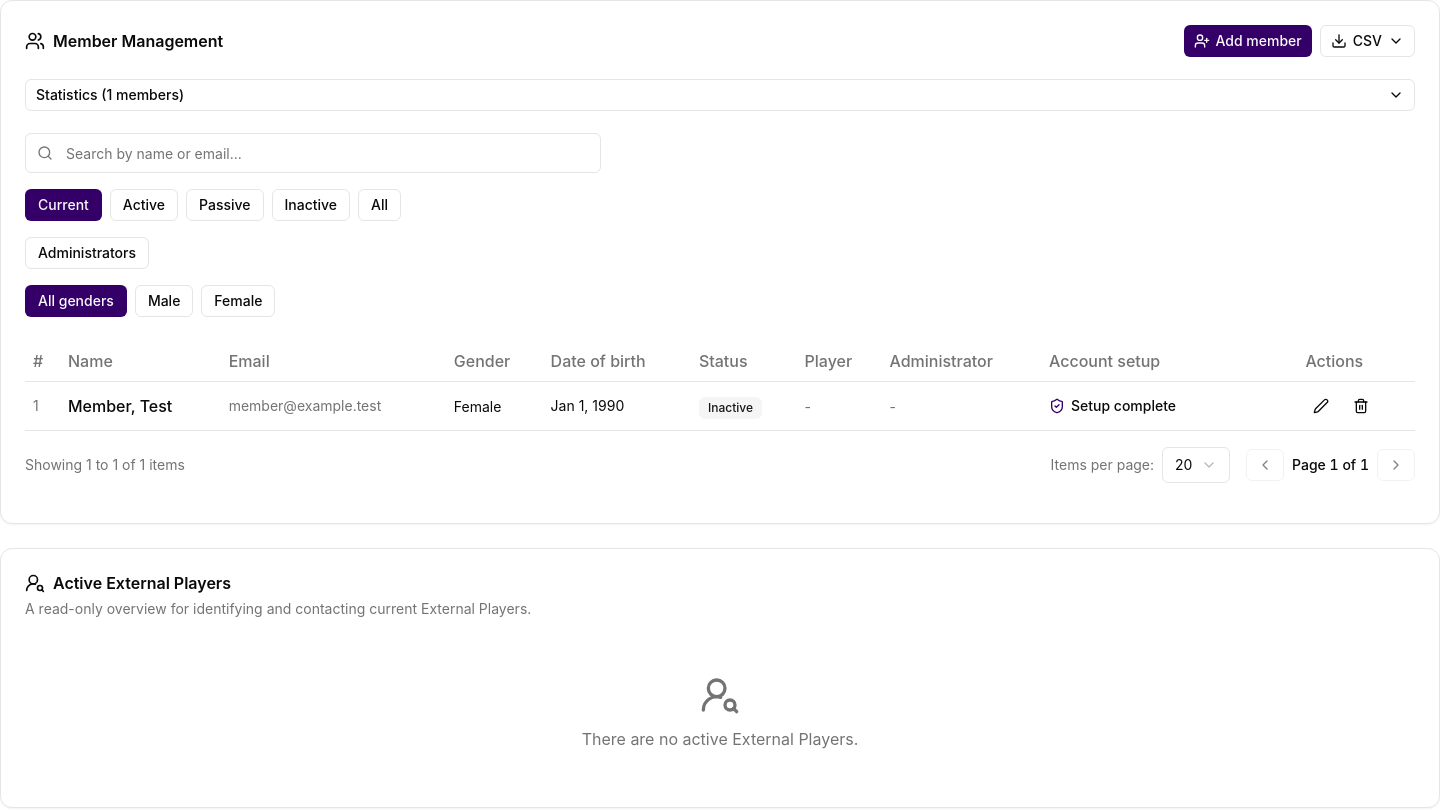
MemberCenter member projection › requires a reason and retains failed deletion context until retry succeeds
Step 1. Click the button named "Permanently delete account for Member, Test" → click(1361, 406), box [1345,390,1377,422]
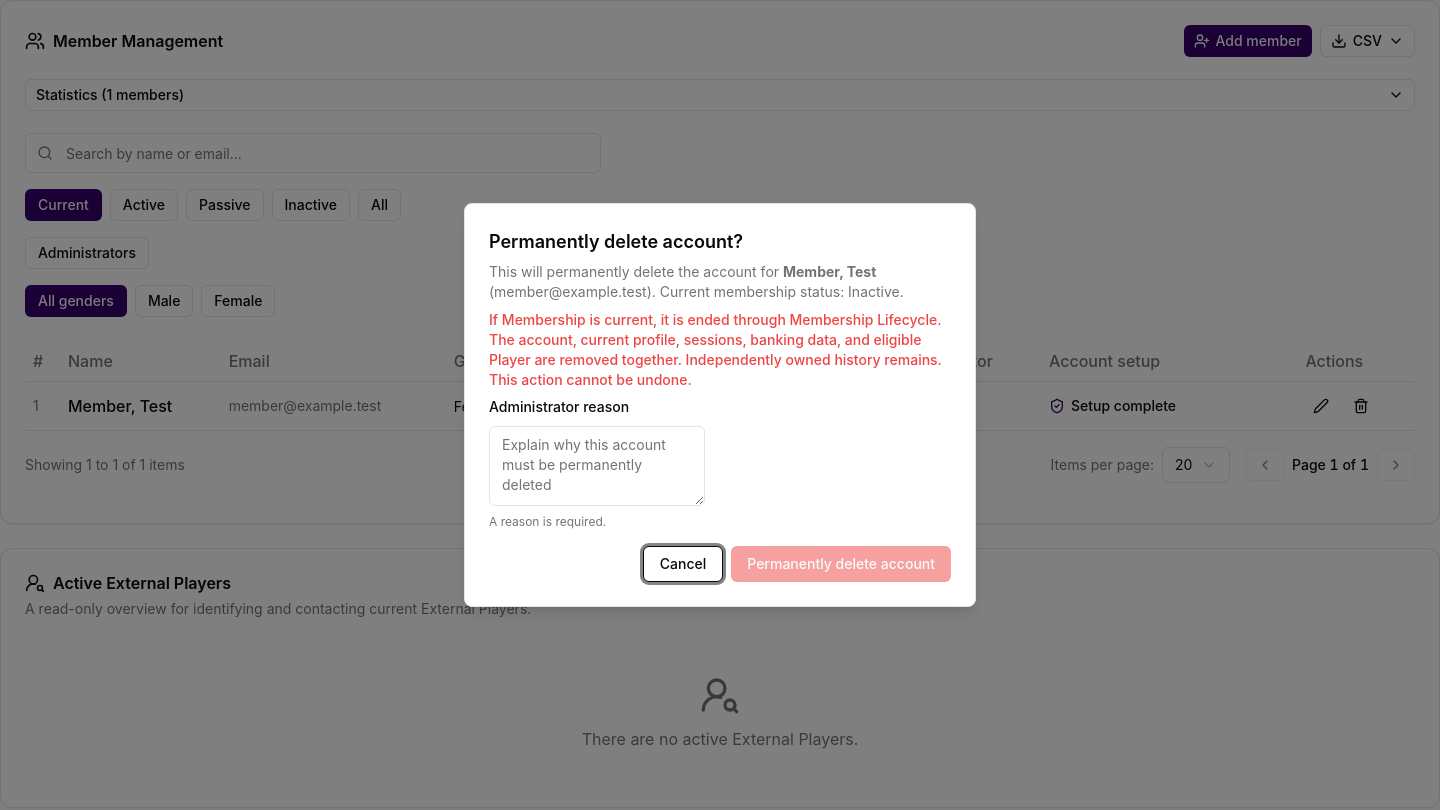
Now the button "Permanently delete account" is disabled, box [731,546,951,582]
Step 2. Type "Duplicate account confirmed by administrator" into the text box labelled "Administrator reason" → (597, 466), box [489,426,705,506]
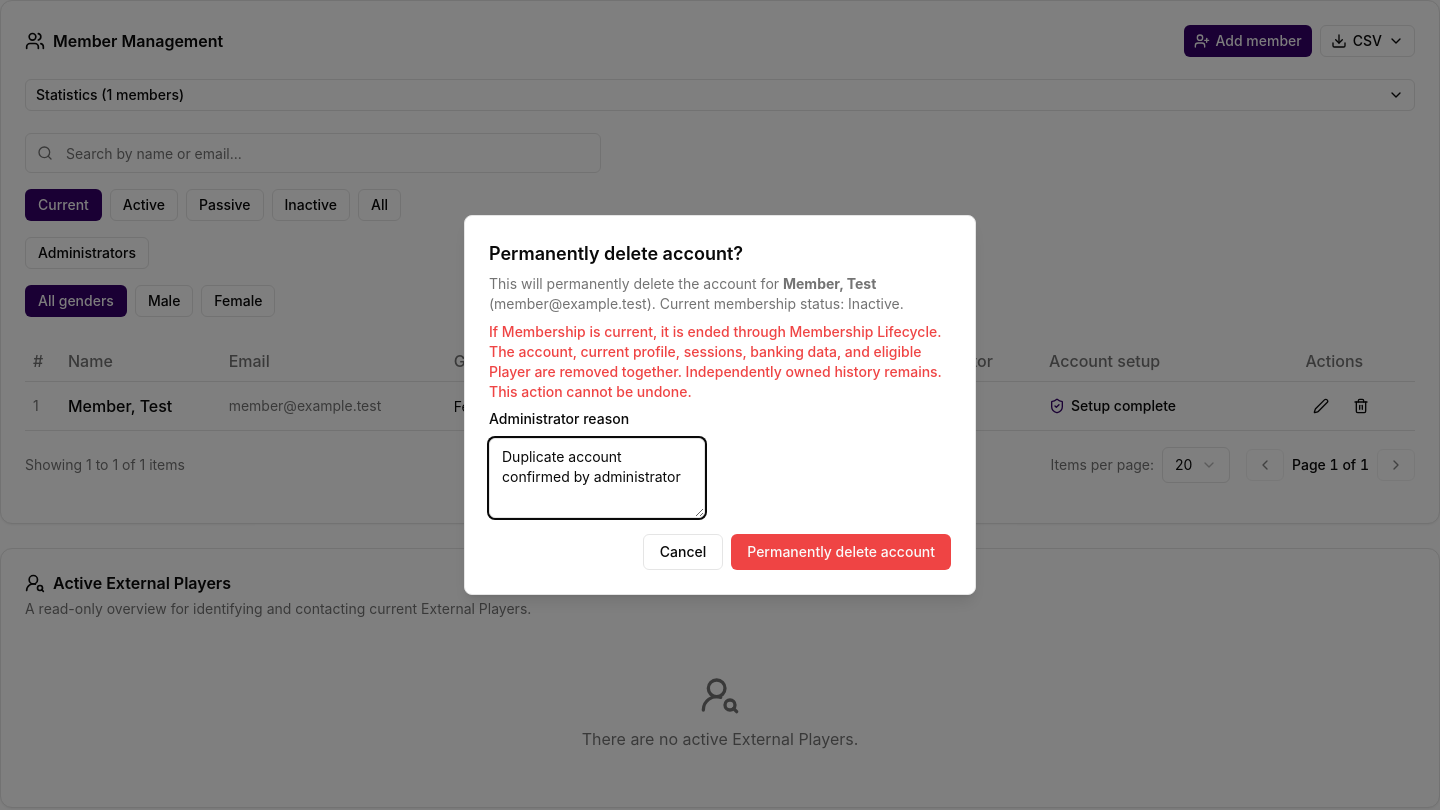
Step 3. Click the button "Permanently delete account" → click(841, 552), box [731,534,951,570]
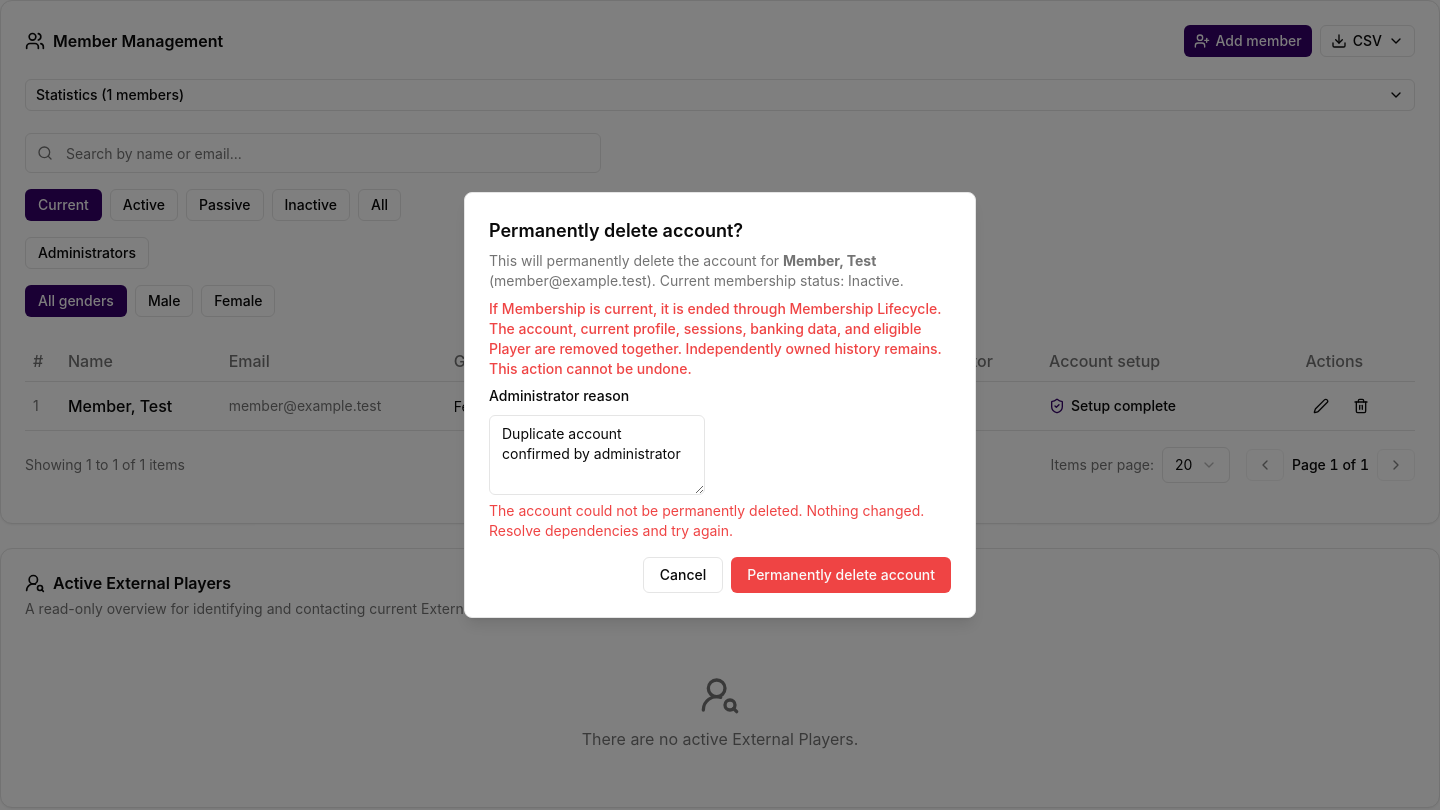
Expected: the text "Member, Test" in the row of "Jan 1, 1990" is shown, [68,396,172,416]
Now the text "account could not be permanently deleted" is shown, box [489,502,924,539]
Step 4. Click the button "Permanently delete account" → click(841, 575), box [731,557,951,593]
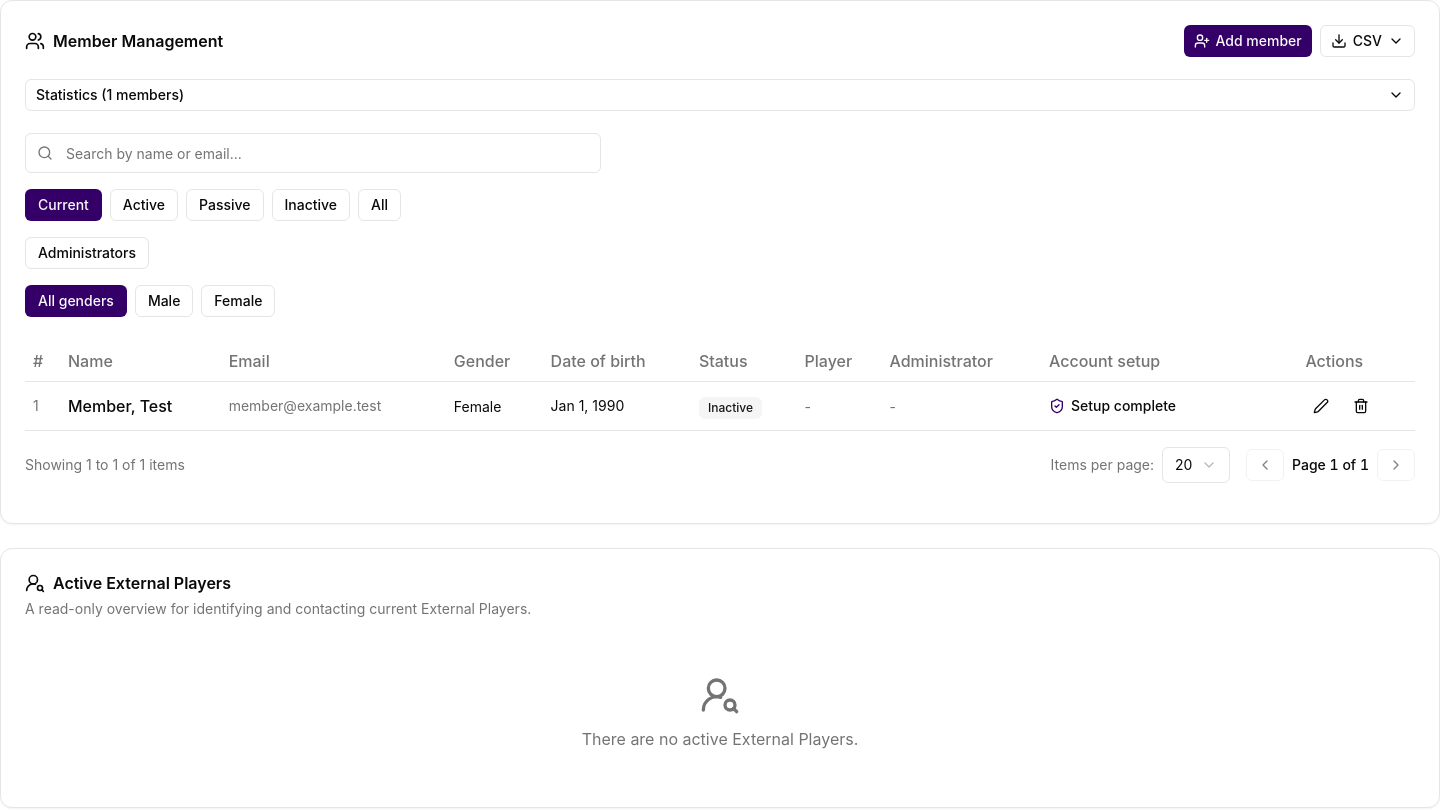
Now the heading "Permanently delete account?" is gone
